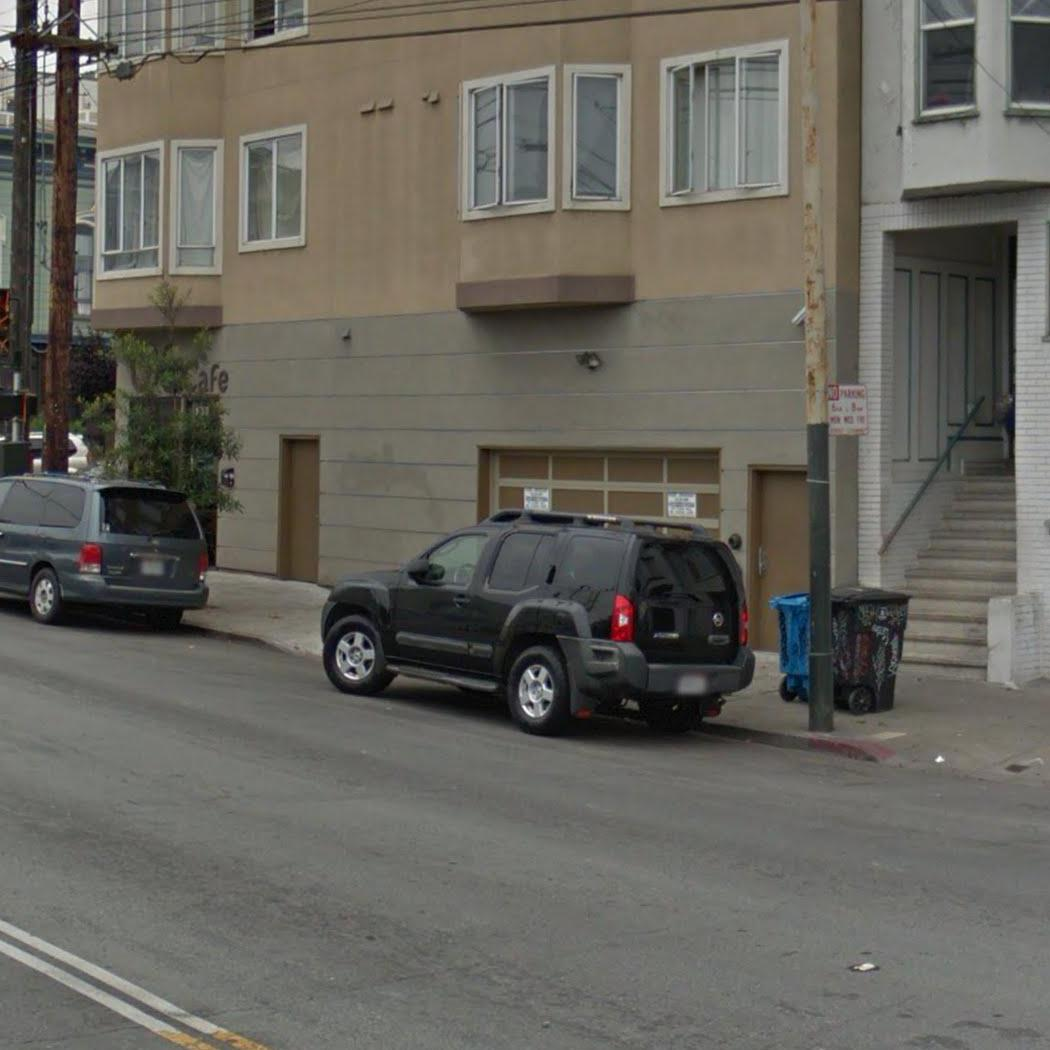No Parking: (825, 384, 871, 438)
